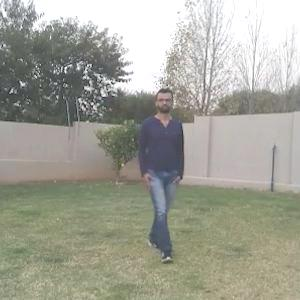follow: (142, 92, 180, 244)
